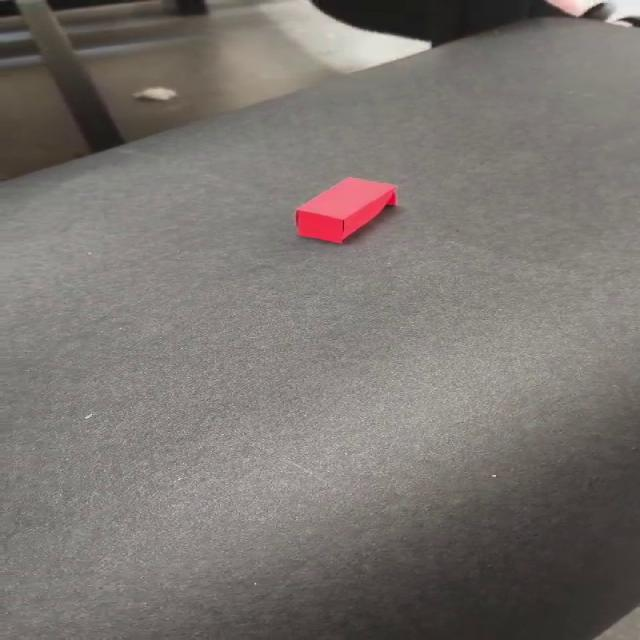red block: (294, 176, 398, 243)
